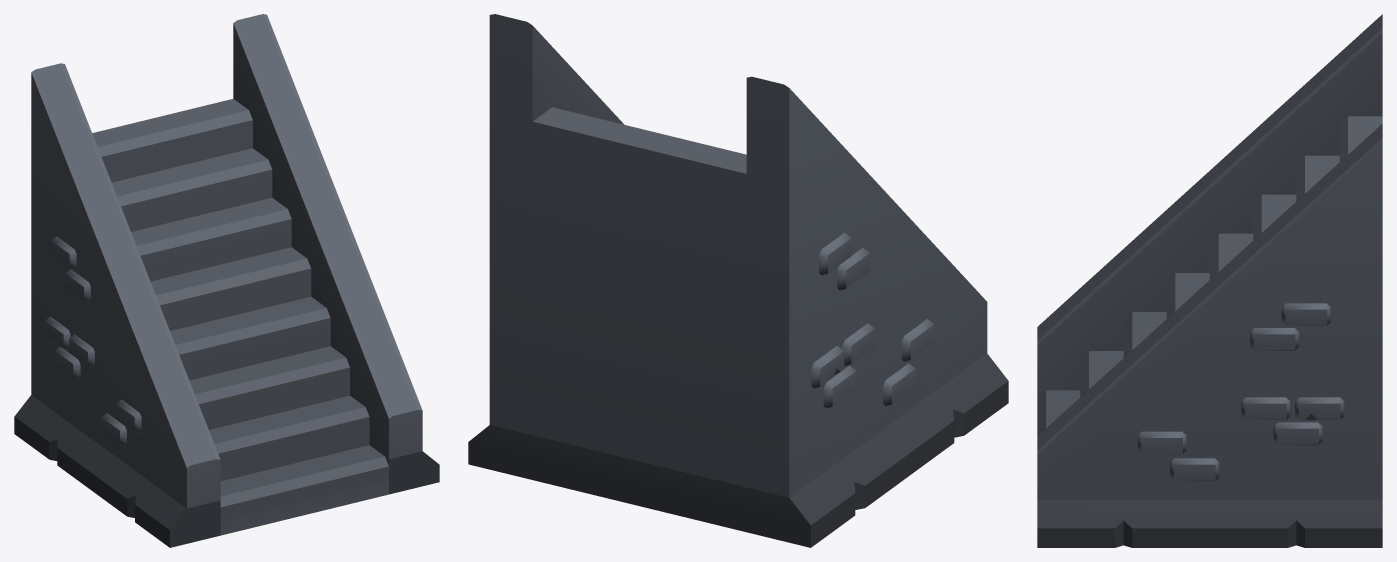
Rendered from stairs_narrow.glb.
3 views of the same model, side by side, from view 1: azimuth 30°, elevation 25°; view 2: azimuth 150°, elevation 25°; view 3: azimuth 270°, elevation 25° (orthographic). The views are drawn at different scales.
Parts seen in each view (by area): view 1: stairs_narrow; view 2: stairs_narrow; view 3: stairs_narrow.
Part boxes in pixels (x1,y1,x2,y2): stairs_narrow: [14, 14, 439, 547]; stairs_narrow: [468, 14, 1008, 547]; stairs_narrow: [1037, 14, 1382, 547].
Size of the model in its own units: 4 by 5.1 by 4.
Materials: 1 (1 with a texture image).
